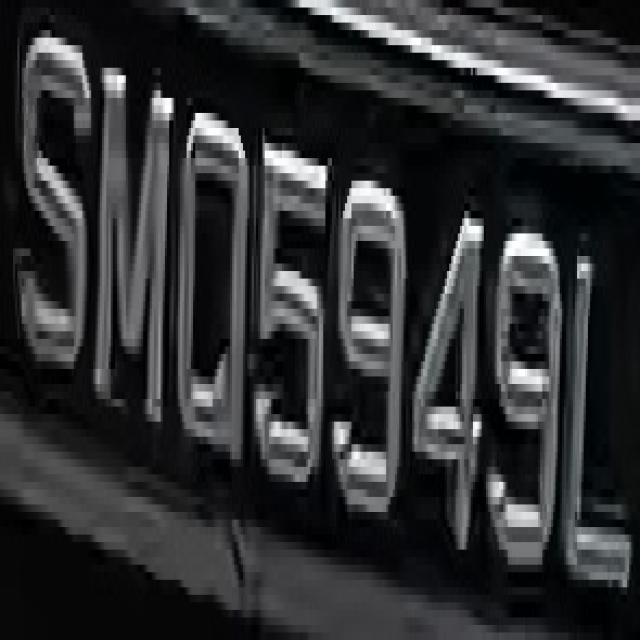4: (406, 173, 490, 542)
5: (260, 105, 326, 527)
9: (332, 120, 406, 550), (493, 181, 564, 595)
L: (568, 226, 640, 625)
M: (91, 45, 176, 429)
Q: (169, 68, 258, 467)
S: (20, 23, 91, 384)
